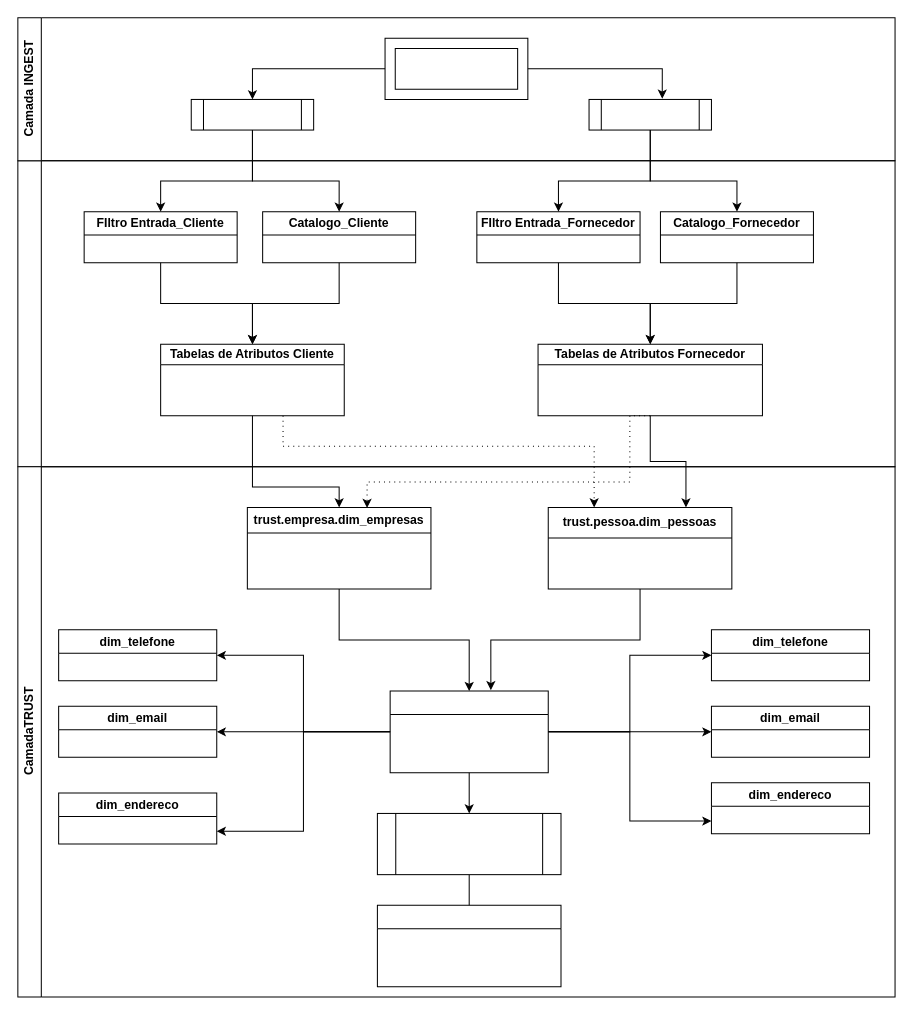
The diagram is 913 pixels wide and 1015 high, and some of its shapes have lost their labels. Each missing label, with the centre of its shape:
"Camada STAGE" belongs at (x=456, y=313).
"Cliente" belongs at (x=252, y=114).
"Dados Finais" belongs at (x=468, y=843).
"Filtro Saida" belongs at (x=468, y=945).
"Fornecedor" belongs at (x=649, y=114).
"link_dimensoes" belongs at (x=468, y=731).
"SAP" belongs at (x=456, y=68).
